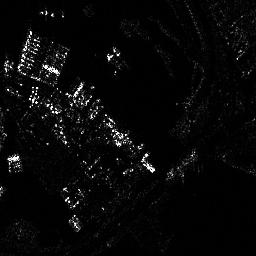ship: (165, 148, 196, 181)
